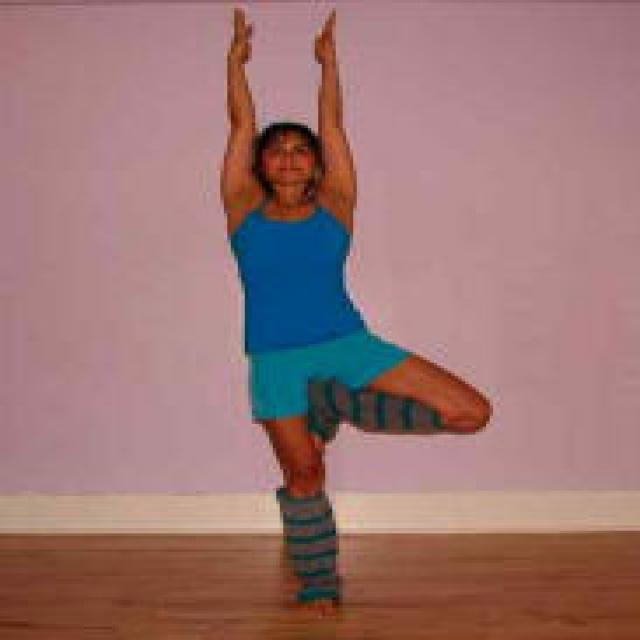yoga-pose tree: (182, 1, 504, 606)
